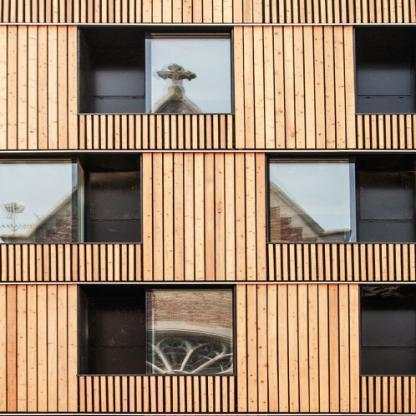Building Outline: (0, 0, 416, 416)
Facade: (0, 0, 416, 416)
Floor: (0, 0, 416, 135), (0, 272, 416, 395), (0, 142, 416, 265), (0, 402, 416, 416)
Floor Slab: (0, 265, 416, 272), (0, 135, 416, 141), (0, 396, 416, 402)
Window: (267, 157, 357, 242), (146, 289, 233, 374), (146, 29, 233, 113), (0, 155, 78, 243), (92, 297, 146, 346), (362, 297, 416, 345), (358, 50, 414, 95), (91, 170, 141, 219)
Window Hole: (77, 284, 237, 376), (78, 25, 235, 113), (265, 152, 416, 243), (0, 152, 143, 242), (355, 25, 416, 114), (358, 284, 416, 376)
